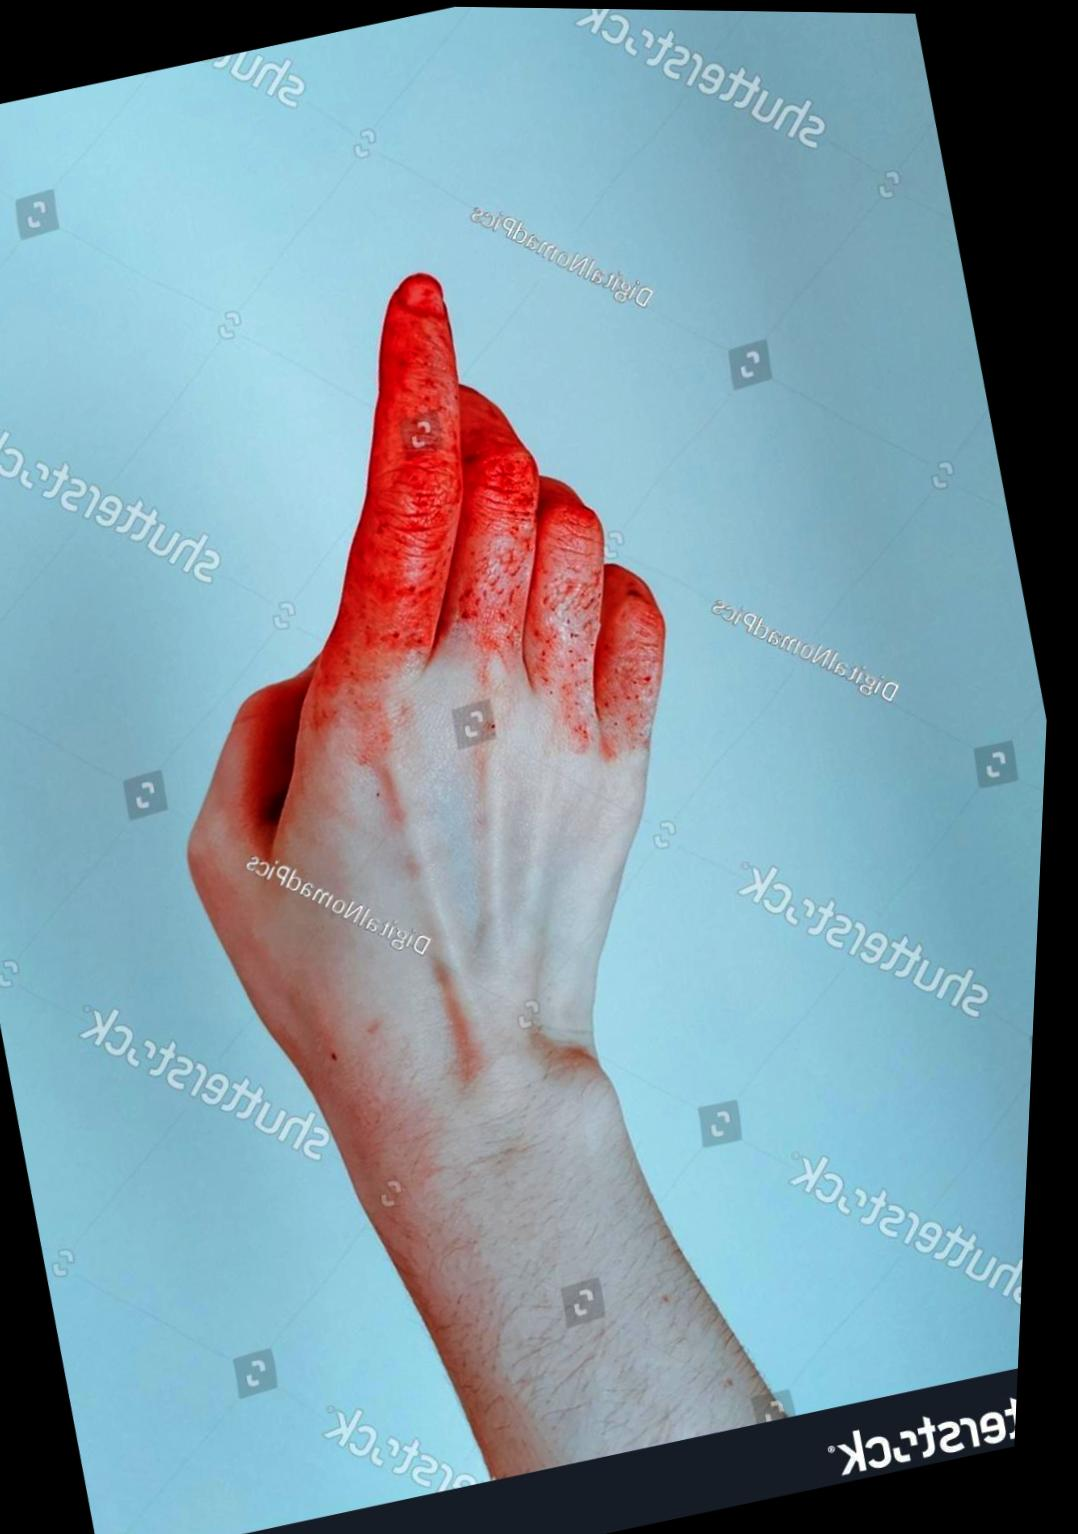Fire: (314, 273, 671, 748)
